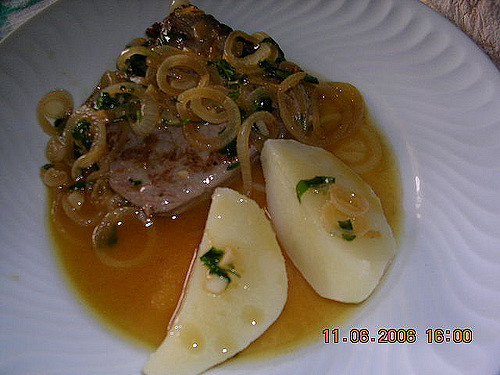boiled potatoes: (262, 137, 398, 297), (172, 181, 272, 358)
